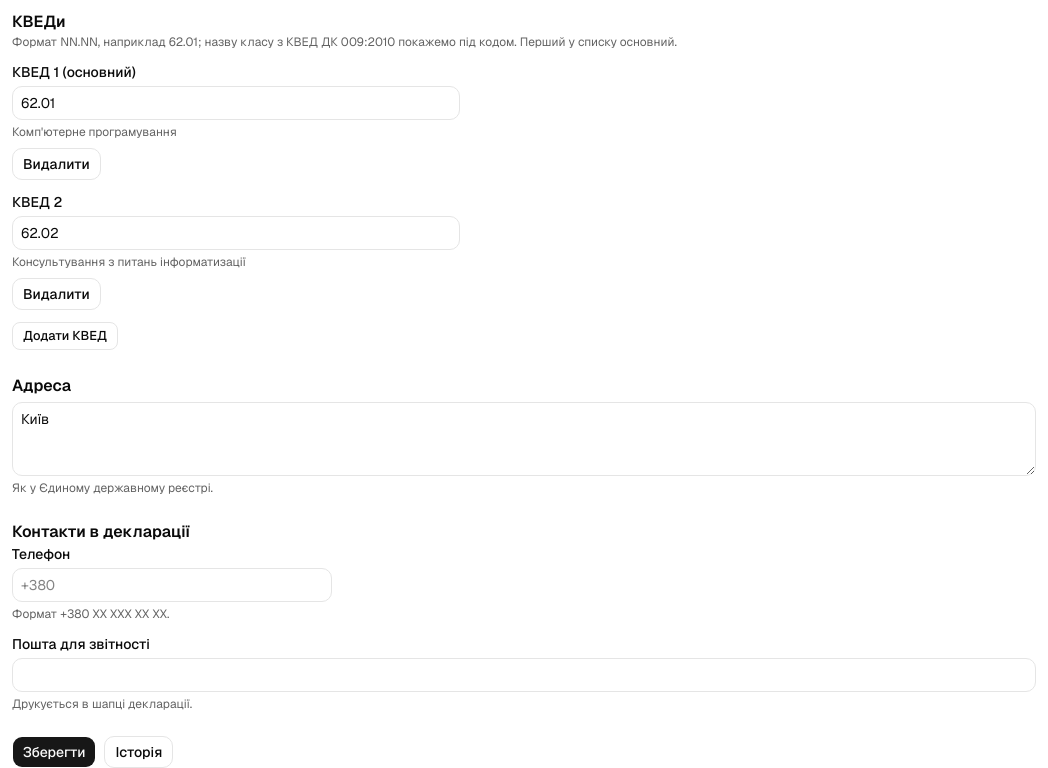
Test: DeclarationDetailsForm contacts › words a rejected phone by its code and ties the message to the input
The width and height of the screenshot is (1048, 768).
(page scrolled)
In the field labelled "Телефон": (172, 585) [12,568,332,602], type "12345"
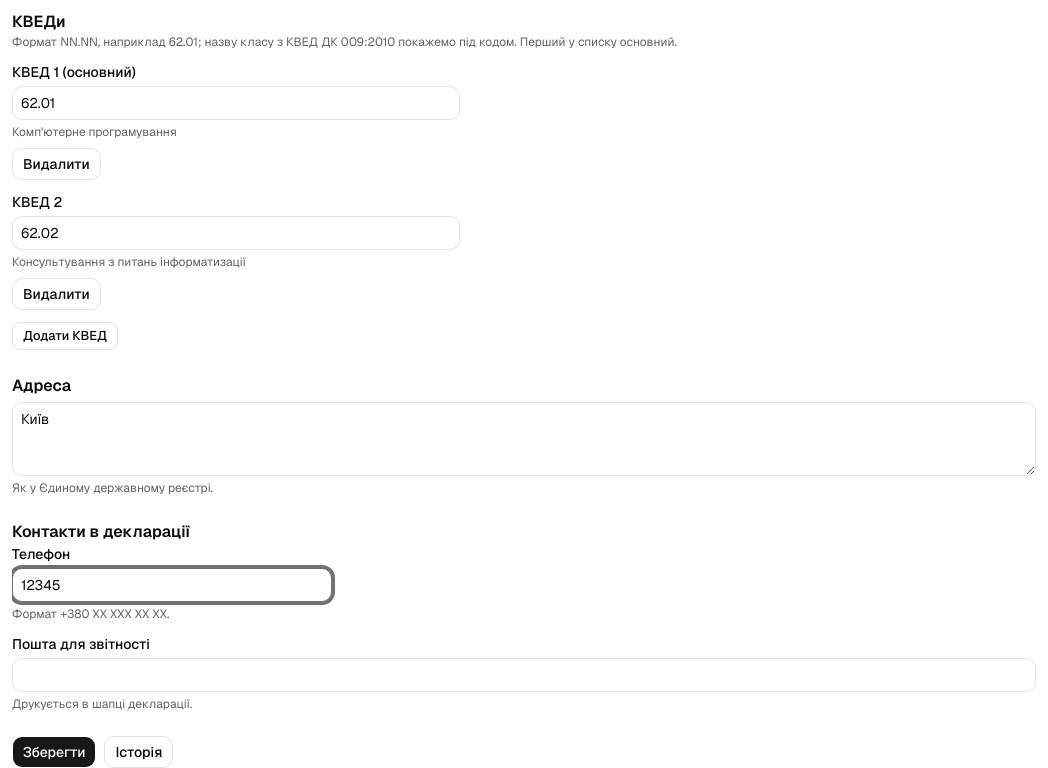
Click the button "Зберегти": (54, 752) [12,736,96,767]
(page scrolled)
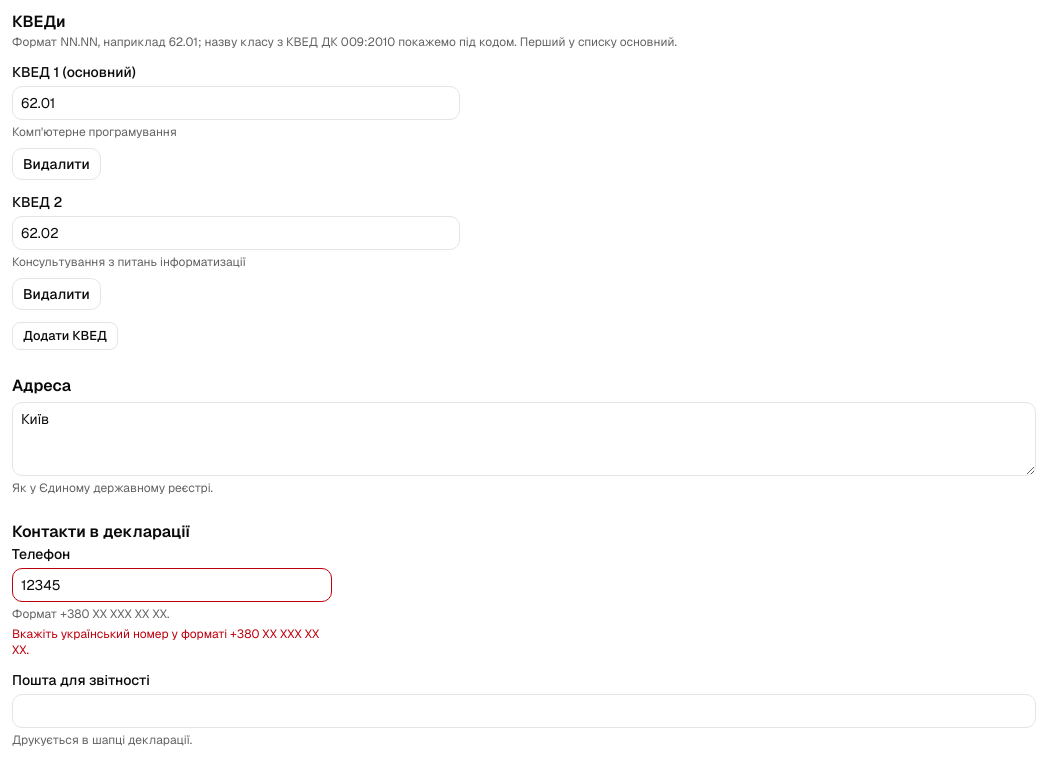
Result: the text "Вкажіть український номер у форматі +380 XX XXX XX XX." is shown at [12,626,332,658]
